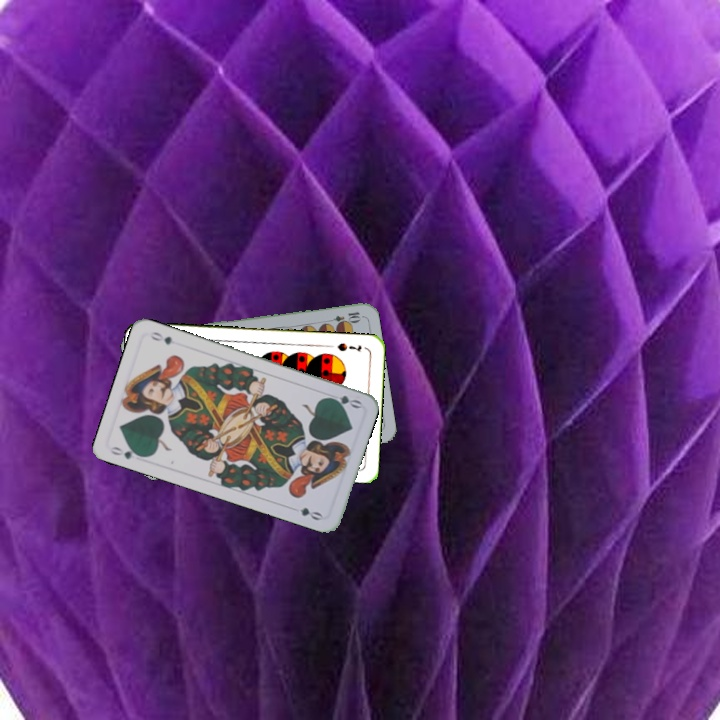E10: (322, 308, 363, 326)
GO: (323, 391, 364, 411), (106, 442, 147, 462)
S7: (333, 339, 364, 354)
